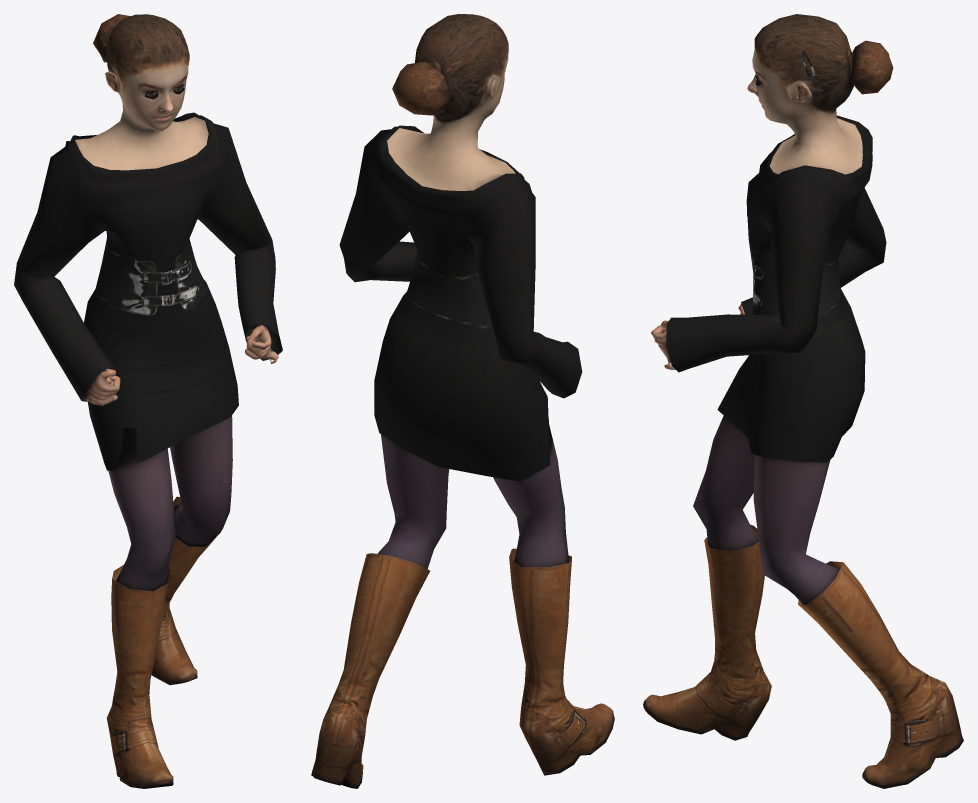
Rendered from Ana_Model_000012.obj.
3 views of the same model, side by side, from view 1: azimuth 30°, elevation 25°; view 2: azimuth 150°, elevation 25°; view 3: azimuth 270°, elevation 25° (orthographic). The views are drawn at different scales.
Visible parts, largest first — view 1: Ana_Cube.004; view 2: Ana_Cube.004; view 3: Ana_Cube.004.
Boxes of the visible parts, <box> form: Ana_Cube.004: <box>14,14,282,788</box>; Ana_Cube.004: <box>311,14,614,788</box>; Ana_Cube.004: <box>643,14,963,788</box>.
Size of the model in its own units: 0.6005 by 1.89 by 0.7371.
Materials: 1 (1 with a texture image).
